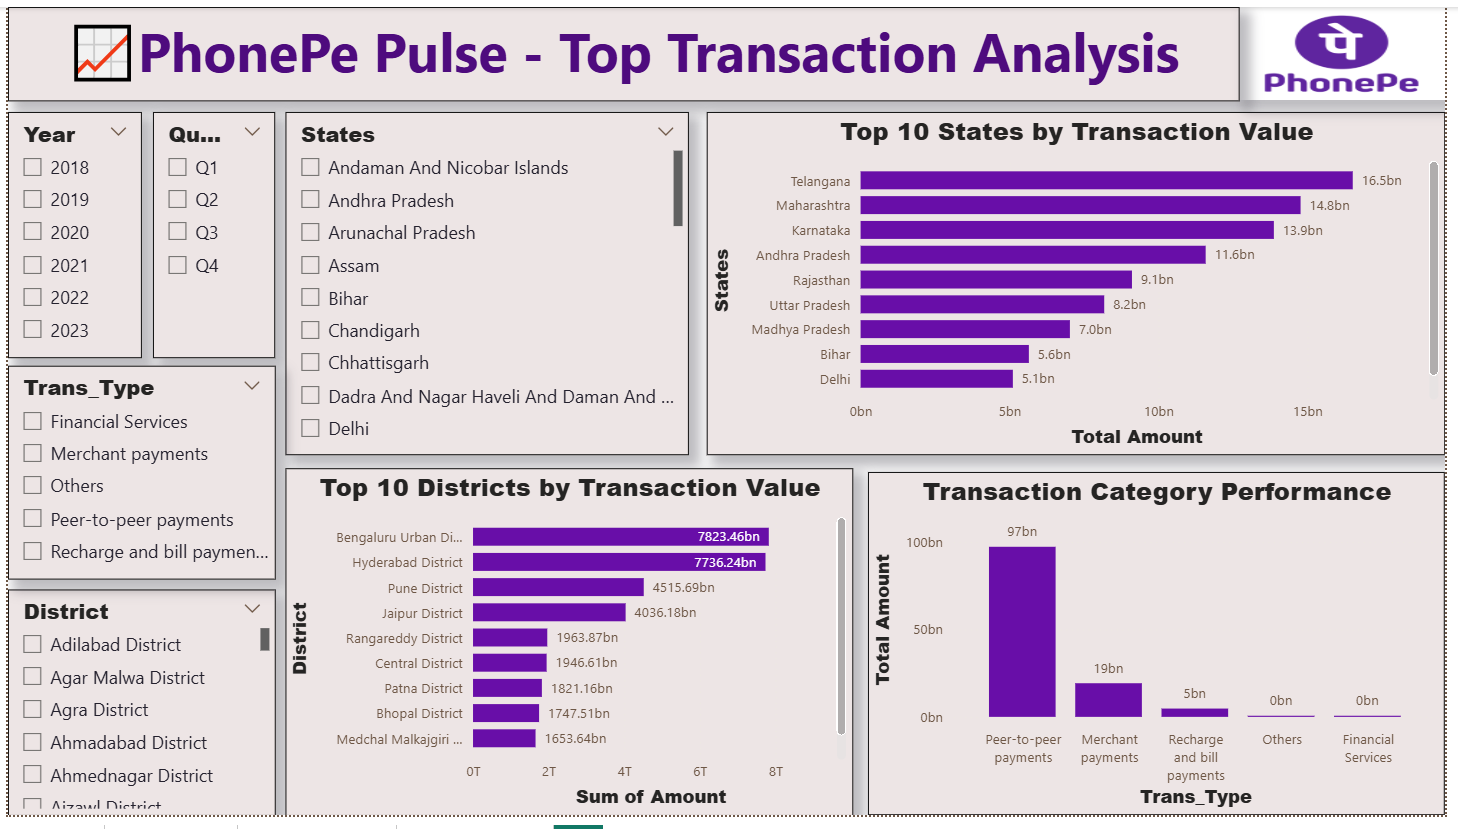

The dashboard page shown, as its layout file describes it:
{"tool":"powerbi","page":{"name":"Top Transaction","canvas":[1280,720],"ordinal":3},"visuals":[{"type":"textbox","box":[0,0,1096.5,83.7],"z":0},{"type":"slicer","fields":{"Values":["Date_table.Year"]},"box":[0,93.5,119.1,219.3],"z":1000},{"type":"slicer","fields":{"Values":["Date_table.Quarter"]},"box":[129.1,93.5,109.1,219.3],"z":2000},{"type":"slicer","fields":{"Values":["State_Table.States"]},"box":[246.7,93.8,359.2,305.9],"z":3000},{"type":"slicer","fields":{"Values":["map_transaction.District"]},"box":[0,518.7,238.2,201.5],"z":4000},{"type":"slicer","fields":{"Values":["aggregated_transaction.Trans_Type"]},"box":[0,319,238,190.2],"z":5000},{"type":"clusteredBarChart","title":"Top 10 States by Transaction Value","fields":{"Category":["State_Table.States"],"Y":["aggregated_transaction.Total Amount"]},"box":[621.8,93.8,657.9,305.9],"z":6000},{"type":"clusteredBarChart","title":"Top 10 Districts by Transaction Value","fields":{"Category":["map_transaction.District"],"Y":["Sum(map_transaction.Amount)"]},"box":[246.6,411,505.5,309.2],"z":7000},{"type":"clusteredColumnChart","title":"Transaction Category Performance","fields":{"Category":["aggregated_transaction.Trans_Type"],"Y":["aggregated_transaction.Total Amount"]},"box":[766.1,414.1,513.6,305.9],"z":8000},{"type":"image","box":[1096.9,0,182.8,83.4],"z":8001}]}

Visuals, with their boxes in screenshot pixels (x1, y1, x2, y2), scaled from the page's 1280x720 canvas onto the 1458x829 screenshot:
textbox: select_region(0, 0, 1249, 96)
slicer - Date_table.Year: select_region(0, 108, 136, 360)
slicer - Date_table.Quarter: select_region(147, 108, 271, 360)
slicer - State_Table.States: select_region(281, 108, 690, 460)
slicer - map_transaction.District: select_region(0, 597, 271, 828)
slicer - aggregated_transaction.Trans_Type: select_region(0, 367, 271, 586)
"Top 10 States by Transaction Value" clusteredBarChart: select_region(708, 108, 1457, 460)
"Top 10 Districts by Transaction Value" clusteredBarChart: select_region(281, 473, 857, 828)
"Transaction Category Performance" clusteredColumnChart: select_region(873, 477, 1457, 828)
image: select_region(1249, 0, 1457, 96)
